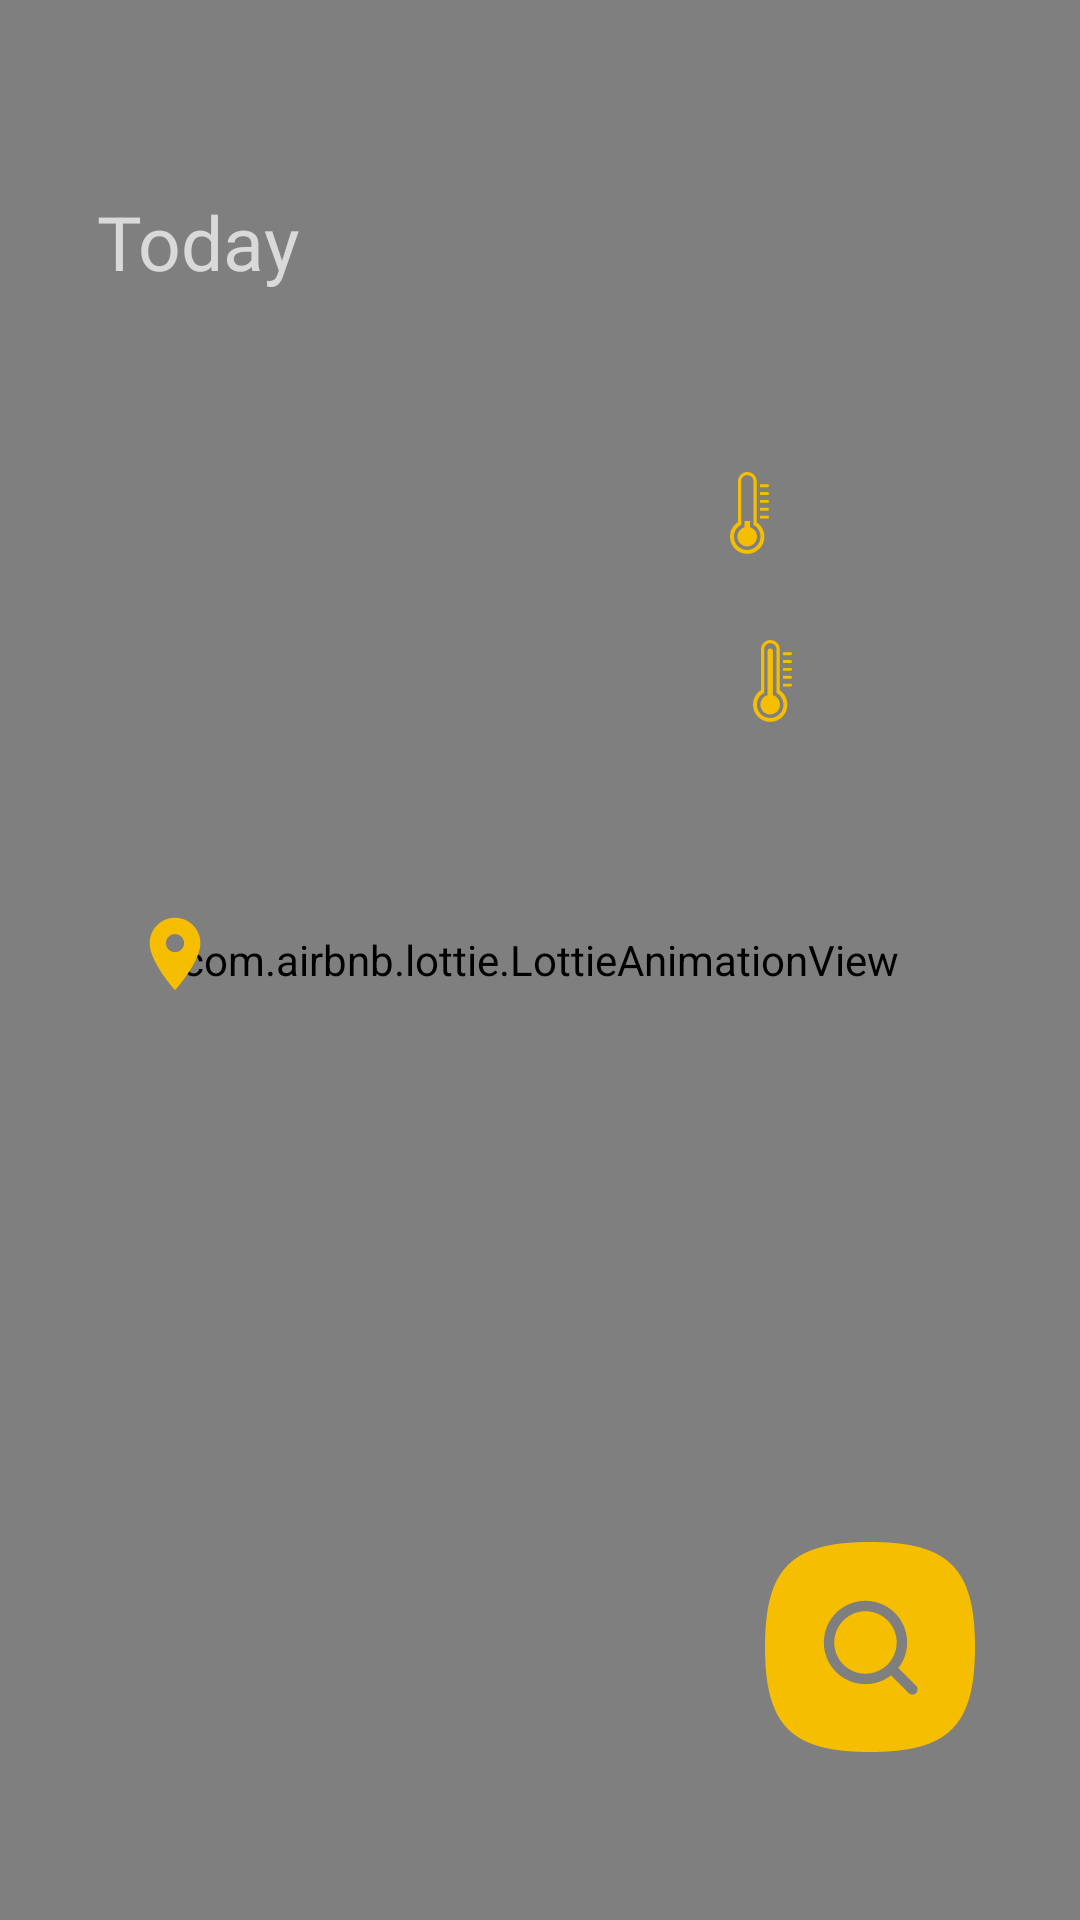

Screen size 1080*1920. Icon name, then its box in pixels as (x1, y1, x2, y2):
search: (765, 1542, 975, 1752)
